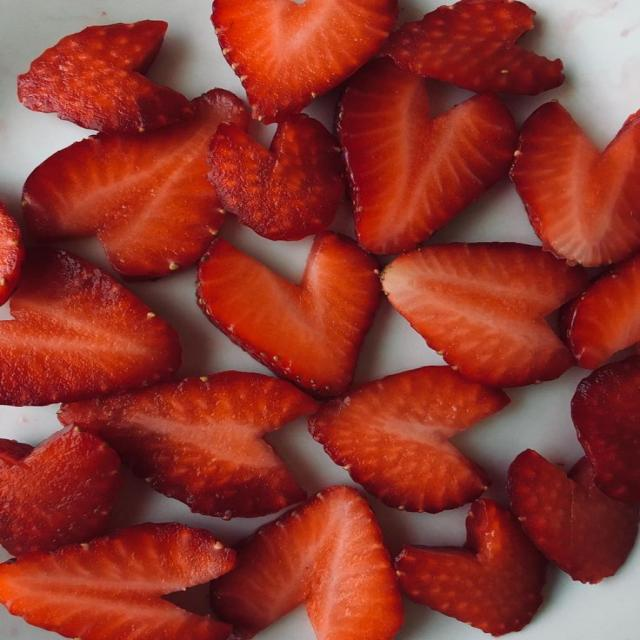strawberry sliced: (23, 90, 248, 278), (59, 371, 315, 518), (339, 58, 517, 253), (198, 233, 380, 396), (382, 243, 586, 386), (309, 367, 509, 512), (213, 487, 402, 639), (0, 248, 180, 406), (0, 524, 234, 639), (212, 0, 398, 123), (512, 102, 639, 266), (396, 500, 546, 635), (18, 21, 189, 132), (508, 450, 638, 582), (209, 115, 345, 239), (385, 0, 564, 94), (0, 430, 120, 555), (572, 357, 639, 502), (562, 254, 639, 368), (0, 203, 24, 305), (0, 439, 33, 466)
